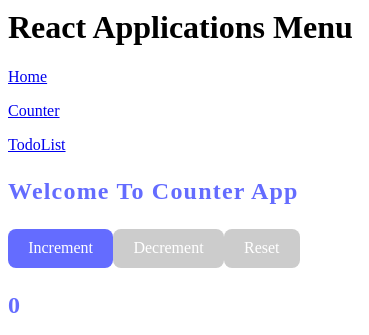
Counter component test › Increment button click test
This screenshot has width=369, height=335.
Click the button "Increment" at (61, 248), box top-left (8, 229), bottom-right (113, 268)
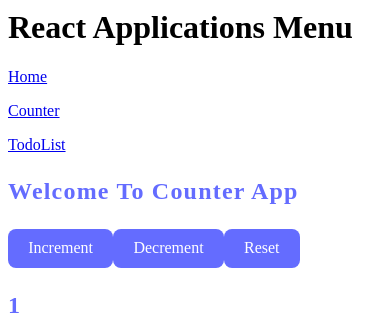
Expected: the text "1" is shown, top-left (8, 292), bottom-right (21, 318)
